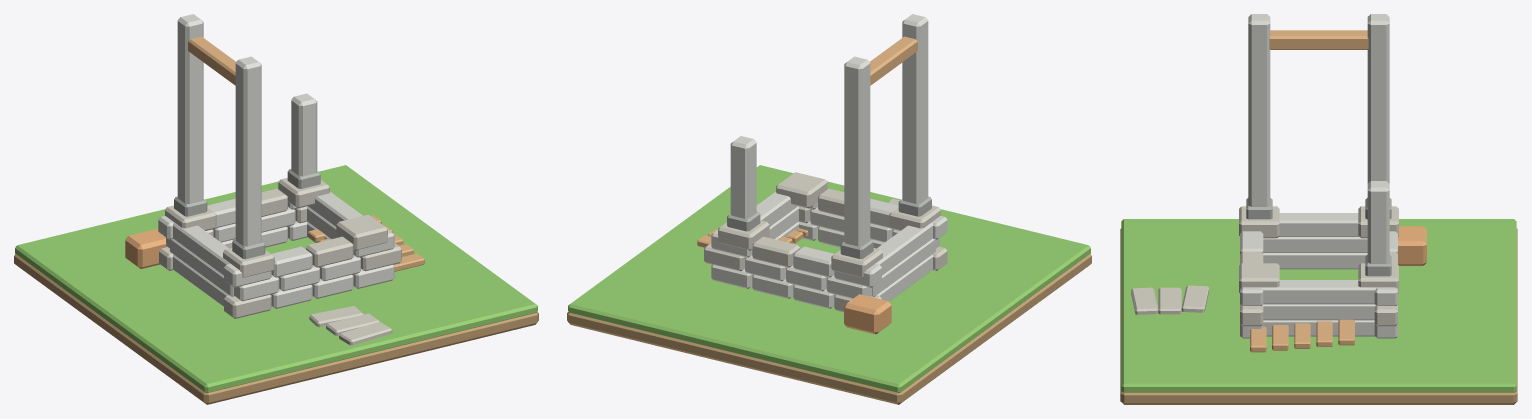
The model's file is tower_l04_construction.glb.
3 renders of one model, left to right at view 1: azimuth 30°, elevation 25°; view 2: azimuth 150°, elevation 25°; view 3: azimuth 270°, elevation 25°, orthographic. The views are drawn at different scales.
Parts seen in each view (by area): view 1: tower_l04_grass_tile, tower_l04_earth_tile, post_-0.61_-0.54, post_-0.61_0.54, post_0.61_0.54, stone_return_2_-0.72, foot_0.61_-0.54, unmounted_instrument_case, temporary_crossbar, stone_course_2_-1_2, stone_return_1_-0.72, stone_course_2_-1_1 (+21 smaller); view 2: tower_l04_grass_tile, tower_l04_earth_tile, post_-0.61_0.54, post_-0.61_-0.54, post_0.61_0.54, unmounted_instrument_case, stone_return_2_-0.72, foot_0.61_-0.54, temporary_crossbar, stone_course_2_1_2, stone_return_1_-0.72, stone_course_2_1_1 (+17 smaller); view 3: tower_l04_grass_tile, tower_l04_earth_tile, post_-0.61_-0.54, post_-0.61_0.54, stone_return_2_0.72, temporary_crossbar, stone_return_2_-0.72, post_0.61_0.54, stone_return_1_0.72, stone_return_1_-0.72, stone_return_0_-0.72, unmounted_instrument_case (+20 smaller).
Boxes of the visible parts, <box> form: tower_l04_grass_tile: <box>15,165,537,392</box>; tower_l04_earth_tile: <box>14,254,538,404</box>; post_-0.61_-0.54: <box>235,56,261,246</box>; post_-0.61_0.54: <box>177,14,203,203</box>; post_0.61_0.54: <box>291,93,317,176</box>; stone_return_2_-0.72: <box>172,221,230,275</box>; foot_0.61_-0.54: <box>336,214,387,250</box>; unmounted_instrument_case: <box>125,229,167,268</box>; temporary_crossbar: <box>188,36,235,85</box>; stone_course_2_-1_2: <box>306,236,353,267</box>; stone_return_1_-0.72: <box>170,238,234,296</box>; stone_course_2_-1_1: <box>271,246,312,277</box>; tower_l04_grass_tile: <box>568,165,1090,392</box>; tower_l04_earth_tile: <box>567,254,1091,404</box>; post_-0.61_0.54: <box>844,56,870,246</box>; post_-0.61_-0.54: <box>902,14,928,203</box>; post_0.61_0.54: <box>730,136,756,218</box>; unmounted_instrument_case: <box>844,294,891,334</box>; stone_return_2_-0.72: <box>875,221,933,275</box>; foot_0.61_-0.54: <box>776,172,827,208</box>; temporary_crossbar: <box>870,36,917,85</box>; stone_course_2_1_2: <box>752,236,799,267</box>; stone_return_1_-0.72: <box>871,238,935,296</box>; stone_course_2_1_1: <box>793,246,834,277</box>; tower_l04_grass_tile: <box>1121,219,1516,392</box>; tower_l04_earth_tile: <box>1120,228,1517,404</box>; post_-0.61_-0.54: <box>1248,14,1270,206</box>; post_-0.61_0.54: <box>1367,14,1389,183</box>; stone_return_2_0.72: <box>1261,280,1376,304</box>; temporary_crossbar: <box>1269,30,1368,49</box>; stone_return_2_-0.72: <box>1279,213,1358,236</box>; post_0.61_0.54: <box>1367,181,1389,263</box>; stone_return_1_0.72: <box>1262,304,1375,320</box>; stone_return_1_-0.72: <box>1263,237,1367,252</box>; stone_return_0_-0.72: <box>1263,253,1367,269</box>; unmounted_instrument_case: <box>1398,226,1426,265</box>.
Size of the model in its own units: 3.6 by 2.77 by 3.6.
